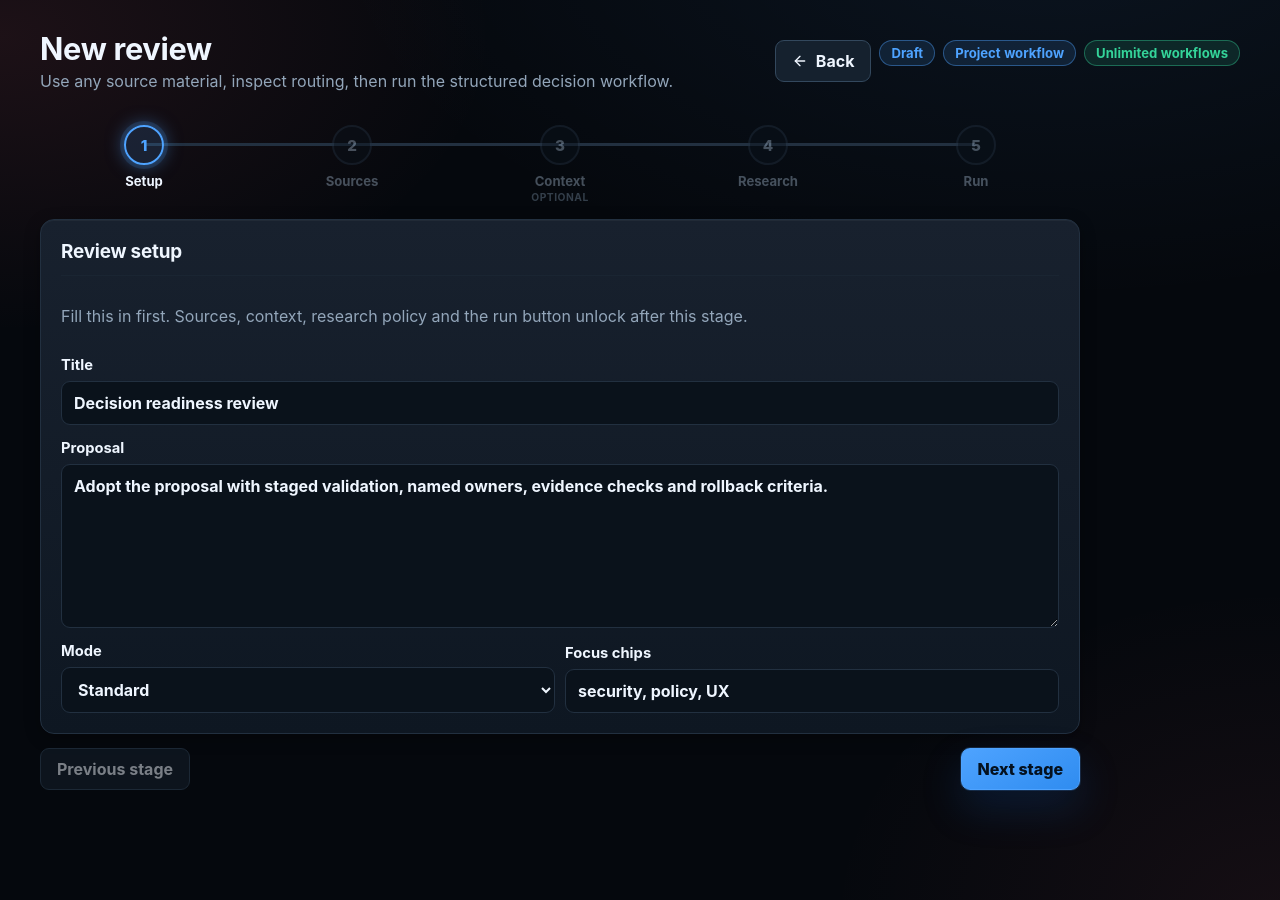
Test: unauthenticated and alternate branch states › surfaces draft creation errors before adding sources
The image size is (1280, 900).
Click the button "Next stage": click(1020, 769) x1=960 y1=748 x2=1080 y2=790
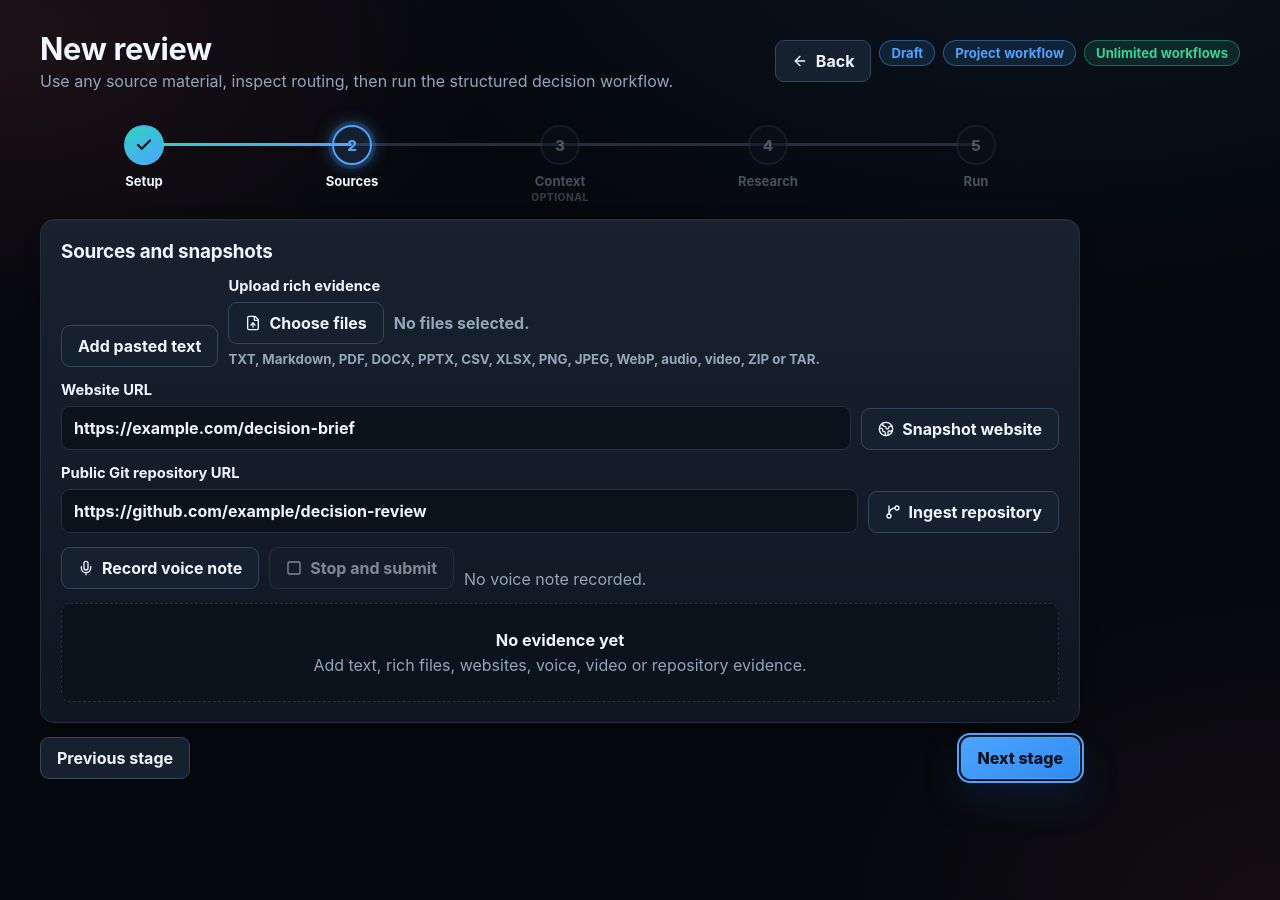
Expected: the heading "Sources and snapshots" is shown, x1=61 y1=240 x2=273 y2=263
Click the button "Add pasted text": click(140, 346) x1=61 y1=325 x2=218 y2=367
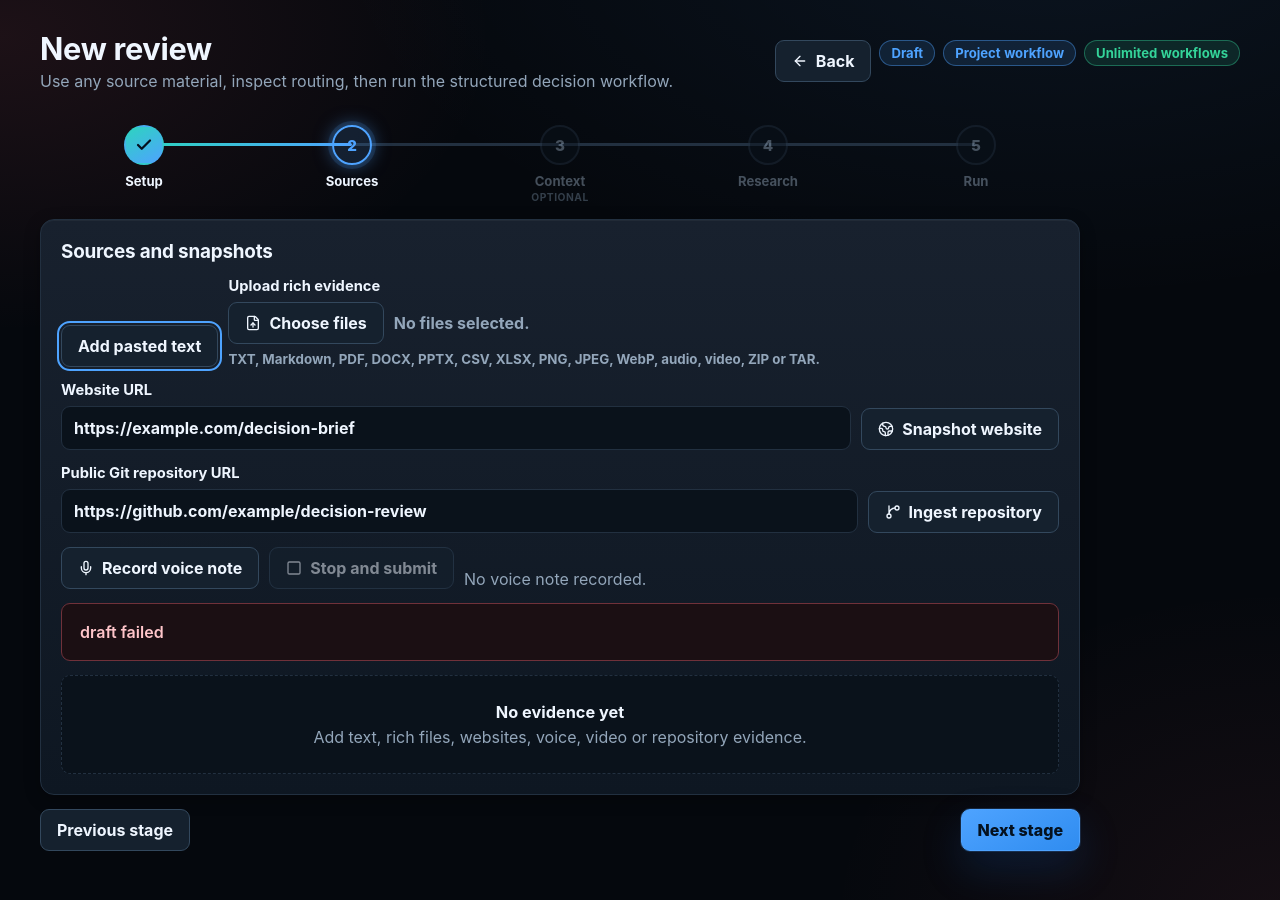
Expected: the message "draft failed" is shown, x1=61 y1=603 x2=1059 y2=661
